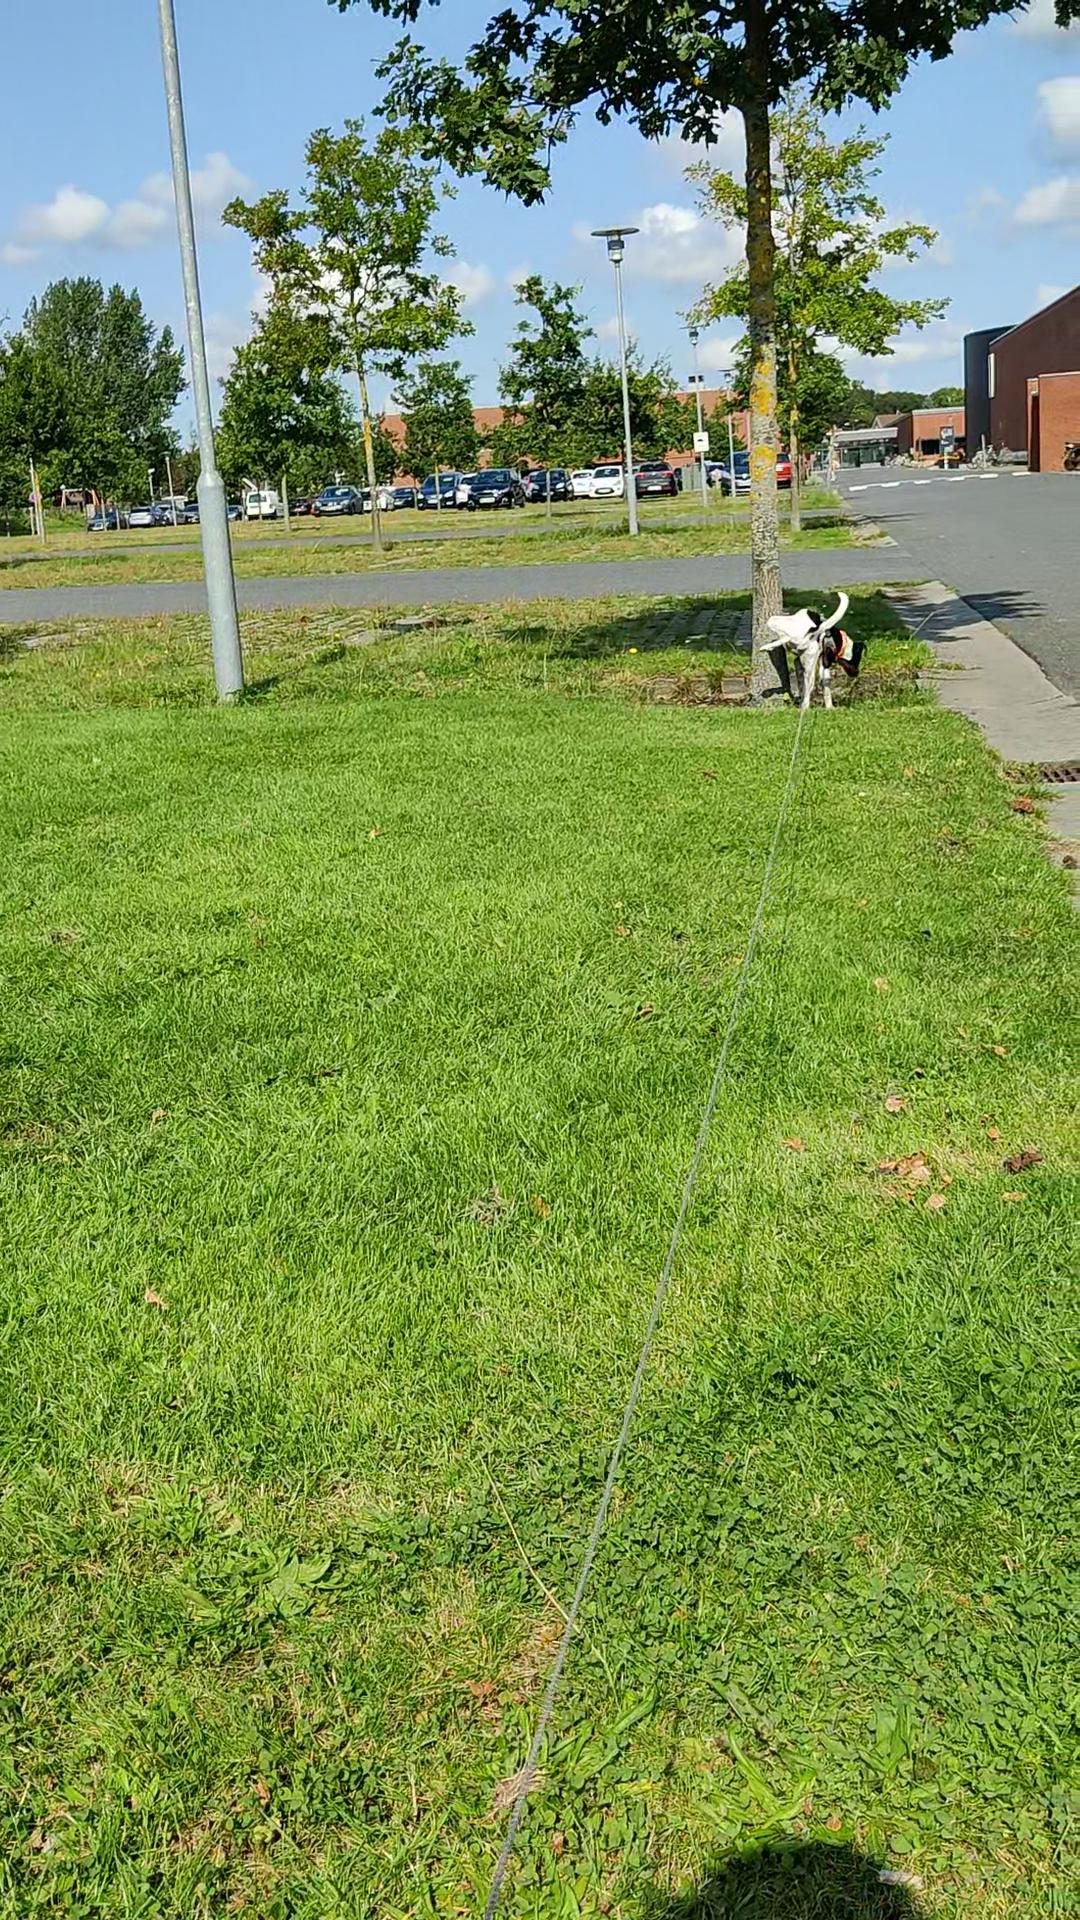Dog: (753, 588, 869, 713)
